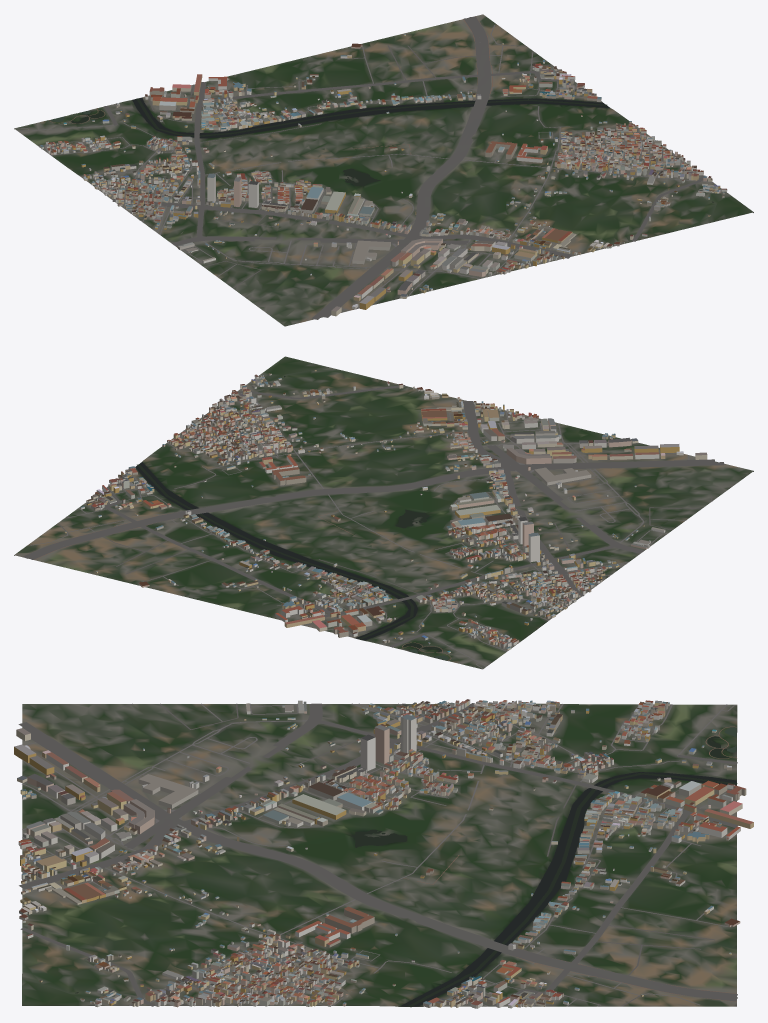
3 renders of one model, top to bottom at view 1: azimuth 30°, elevation 25°; view 2: azimuth 150°, elevation 25°; view 3: azimuth 270°, elevation 25°, orthographic. The views are drawn at different scales.
Parts seen in each view (by area): view 1: ground, buildings, roads, water; view 2: ground, buildings, roads, water; view 3: ground, buildings, roads, water.
Part boxes in pixels (bbox=[...]): ground: bbox=[14, 14, 753, 326]; buildings: bbox=[40, 34, 727, 316]; roads: bbox=[15, 16, 713, 319]; water: bbox=[51, 97, 713, 202]; ground: bbox=[14, 356, 753, 669]; buildings: bbox=[65, 369, 707, 653]; roads: bbox=[22, 385, 724, 668]; water: bbox=[135, 376, 448, 660]; ground: bbox=[22, 703, 737, 1006]; buildings: bbox=[14, 699, 753, 1008]; roads: bbox=[18, 703, 738, 1006]; water: bbox=[75, 728, 737, 1007].
Size of the model in its own units: 1416 by 78.65 by 1451.
